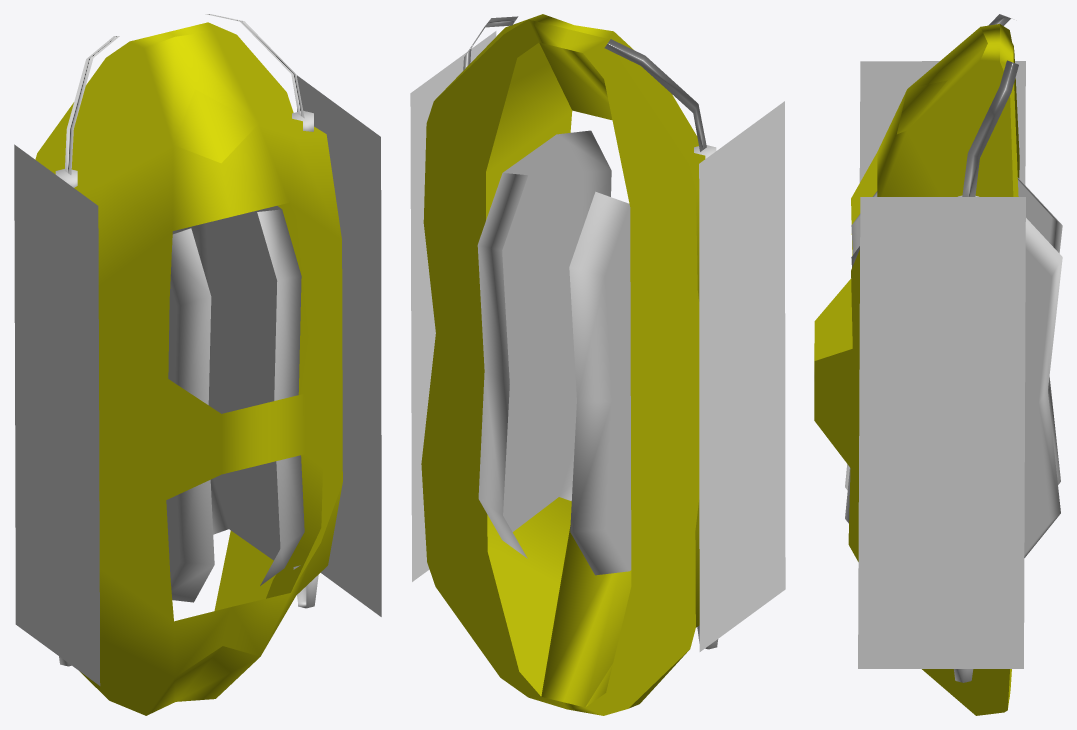
The model's file is Shared_Caliper_Car_MercedesBenz_AMGGTS_2017_Caliper03_L_FL.fbx.
3 views of the same model, side by side, from view 1: azimuth 30°, elevation 25°; view 2: azimuth 150°, elevation 25°; view 3: azimuth 270°, elevation 25° (orthographic). The views are drawn at different scales.
Parts seen in each view (by area): view 1: Car_MercedesBenz_AMGGTS_2017_Caliper03_L_FL 1; view 2: Car_MercedesBenz_AMGGTS_2017_Caliper03_L_FL 1; view 3: Car_MercedesBenz_AMGGTS_2017_Caliper03_L_FL 1.
Boxes of the visible parts, x1,y1,x2,y2 form: Car_MercedesBenz_AMGGTS_2017_Caliper03_L_FL 1: [14, 14, 381, 715]; Car_MercedesBenz_AMGGTS_2017_Caliper03_L_FL 1: [410, 14, 785, 715]; Car_MercedesBenz_AMGGTS_2017_Caliper03_L_FL 1: [814, 14, 1062, 715].
Size of the model in its own units: 0.1458 by 0.3305 by 0.1127.
